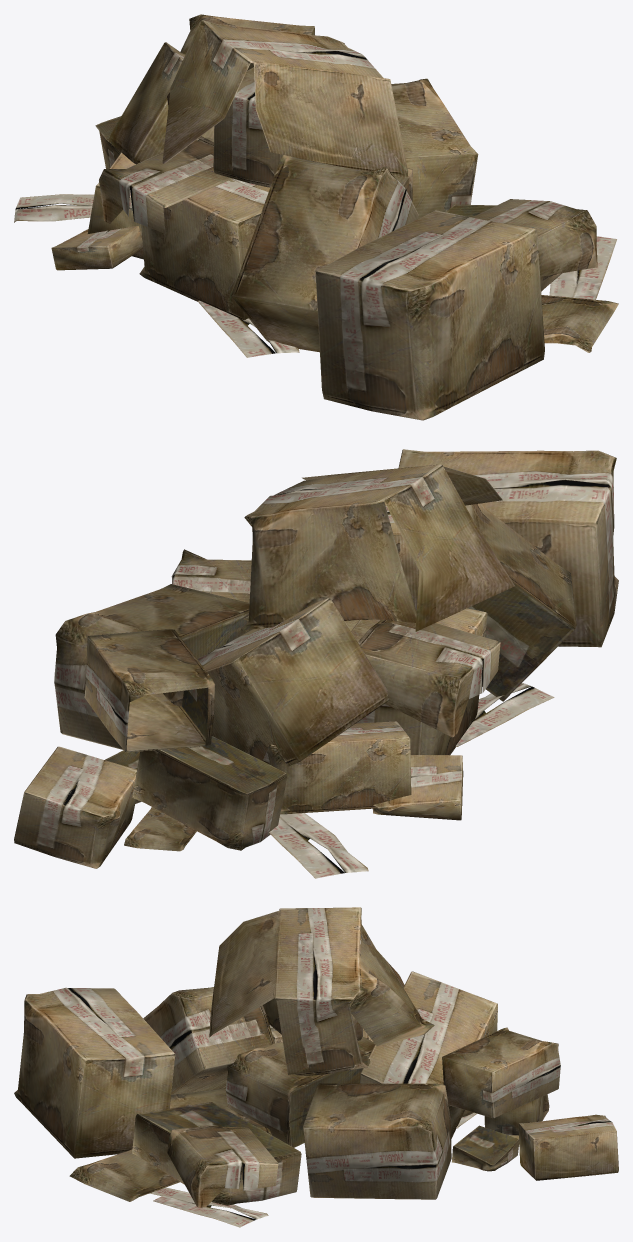
File: trash-size-1.glb
3 views of the same model, one above another, from view 1: azimuth 30°, elevation 25°; view 2: azimuth 150°, elevation 25°; view 3: azimuth 270°, elevation 25° (orthographic). The views are drawn at different scales.
Parts seen in each view (by area): view 1: lixo01; view 2: lixo01; view 3: lixo01.
Boxes of the visible parts, x1=… form: lixo01: x1=14, y1=14, x2=618, y2=420; lixo01: x1=14, y1=449, x2=618, y2=878; lixo01: x1=14, y1=907, x2=618, y2=1227.
Bounding box in the file's own units: 1.91 × 1.08 × 2.84.
1 material, 1 textured.
